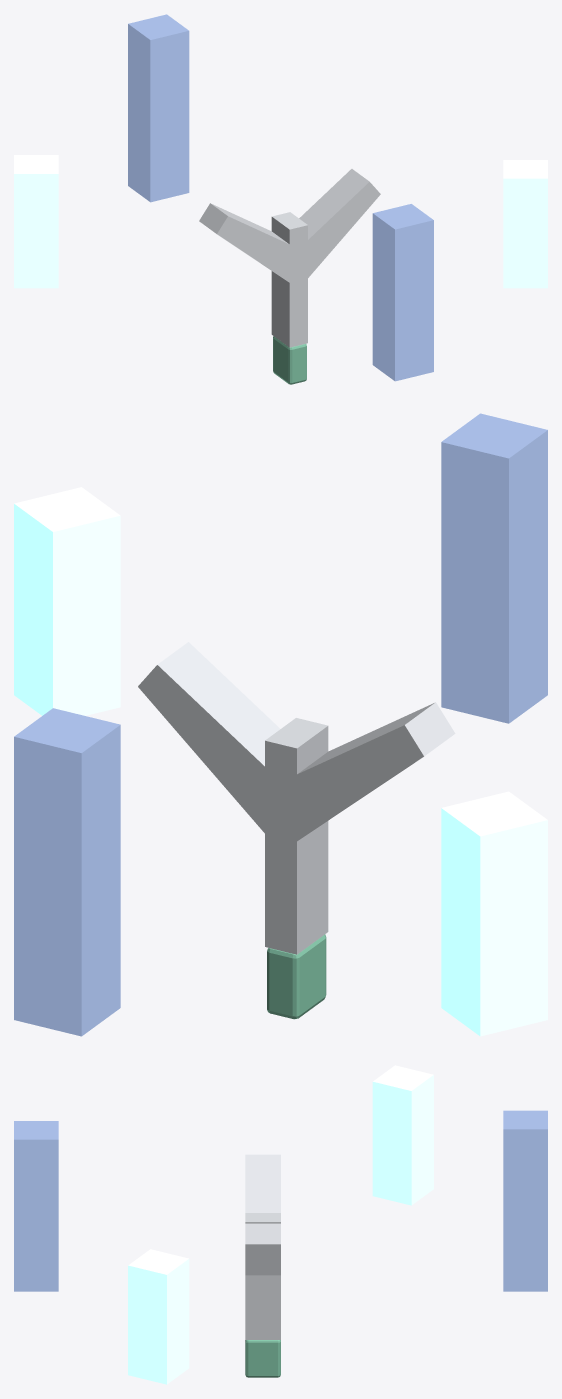
Rendered from turntable.glb.
3 renders of one model, top to bottom at view 1: azimuth 30°, elevation 25°; view 2: azimuth 150°, elevation 25°; view 3: azimuth 270°, elevation 25°, orthographic. The views are drawn at different scales.
Parts seen in each view (by area): view 1: psi-mark, a59b836-tracked, 144bb6d-tracked, a59b836-compared, 144bb6d-compared; view 2: psi-mark, a59b836-tracked, 144bb6d-tracked, a59b836-compared, 144bb6d-compared; view 3: a59b836-tracked, psi-mark, a59b836-compared, 144bb6d-tracked, 144bb6d-compared.
Part boxes in pixels (x1,y1,x2,y2): psi-mark: (199,169,380,384); a59b836-tracked: (128,14,189,202); 144bb6d-tracked: (372,204,433,381); a59b836-compared: (14,155,58,288); 144bb6d-compared: (503,160,547,288); psi-mark: (138,642,455,1019); a59b836-tracked: (14,708,120,1036); 144bb6d-tracked: (441,413,547,723); a59b836-compared: (441,791,547,1036); 144bb6d-compared: (14,487,120,715); a59b836-tracked: (503,1110,547,1291); psi-mark: (245,1154,280,1377); a59b836-compared: (372,1065,433,1205); 144bb6d-tracked: (14,1121,58,1291); 144bb6d-compared: (128,1249,189,1384).
Bounding box in the file's own units: 1.63 × 0.9402 × 1.79.
